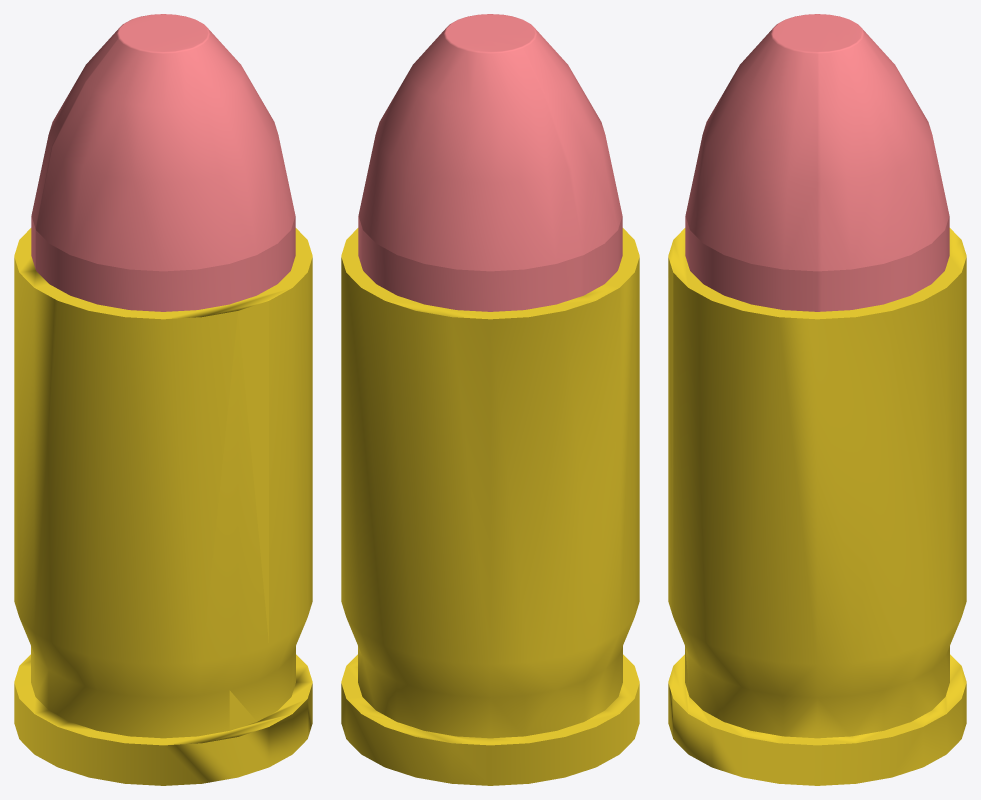
File: ammo_uzi.glb
3 views of the same model, side by side, from view 1: azimuth 30°, elevation 25°; view 2: azimuth 150°, elevation 25°; view 3: azimuth 270°, elevation 25° (orthographic).
Visible parts, largest first — view 1: Group, Group.001; view 2: Group, Group.001; view 3: Group, Group.001.
Part boxes in pixels (bbox=[...]): Group: bbox=[14, 228, 312, 785]; Group.001: bbox=[31, 14, 295, 311]; Group: bbox=[341, 228, 639, 785]; Group.001: bbox=[358, 14, 622, 311]; Group: bbox=[668, 228, 966, 785]; Group.001: bbox=[685, 14, 949, 311].
Size of the model in its own units: 0.0255 by 0.0651 by 0.0255.
